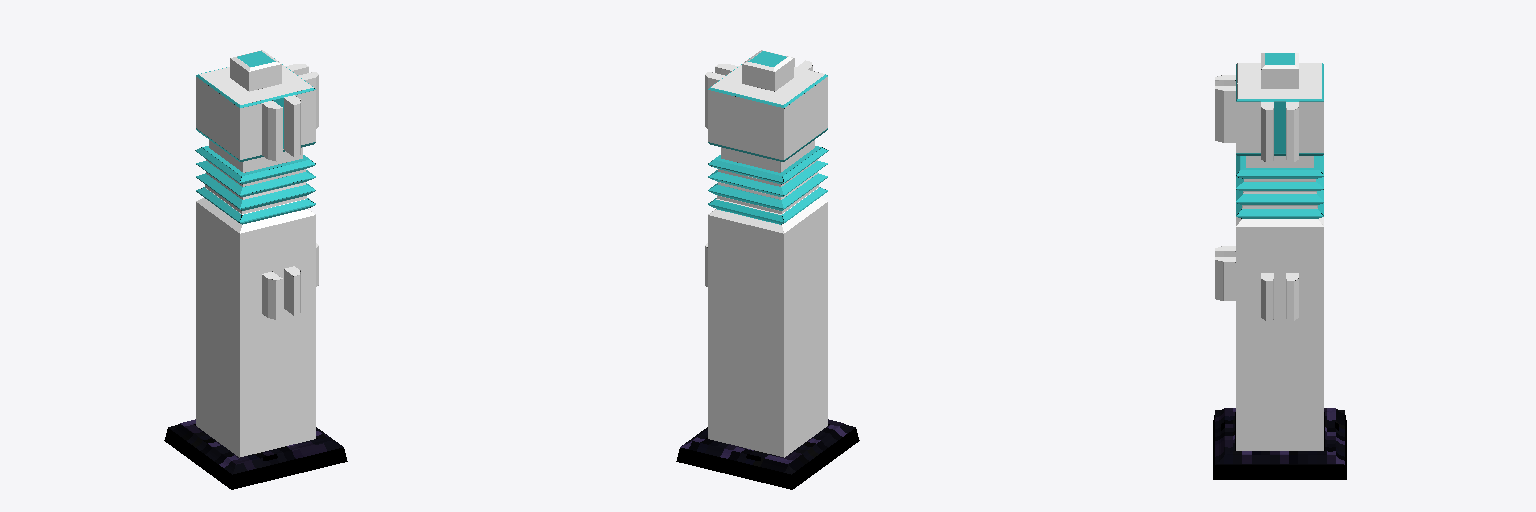
3 views of the same model, side by side, from view 1: azimuth 30°, elevation 25°; view 2: azimuth 150°, elevation 25°; view 3: azimuth 270°, elevation 25° (orthographic).
Bounding box in the file's own units: 0.2615 × 0.8467 × 0.2615.
Materials: 1 (1 with a texture image).